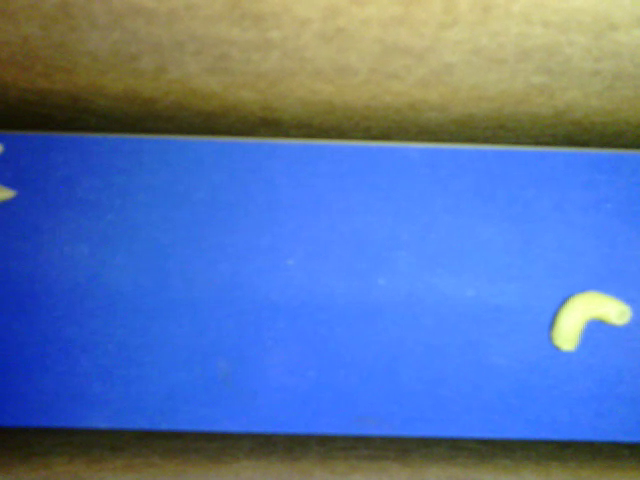elbow: (550, 290, 633, 355)
